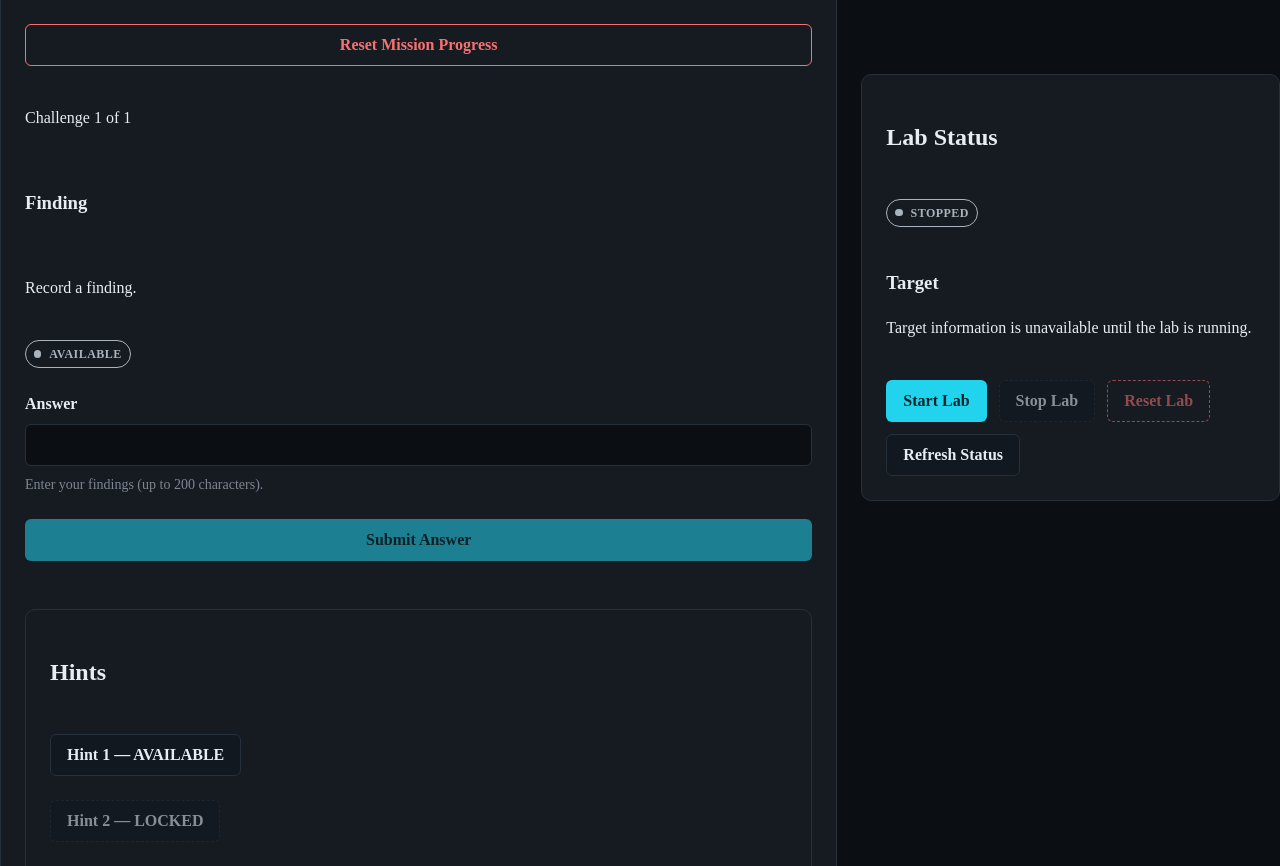
Scenario: handles an HTTP answer failure without leaking the body or completing the mission
(page scrolled)
Type "fixture observation" into the field at (419, 445), box [25,424,812,466]
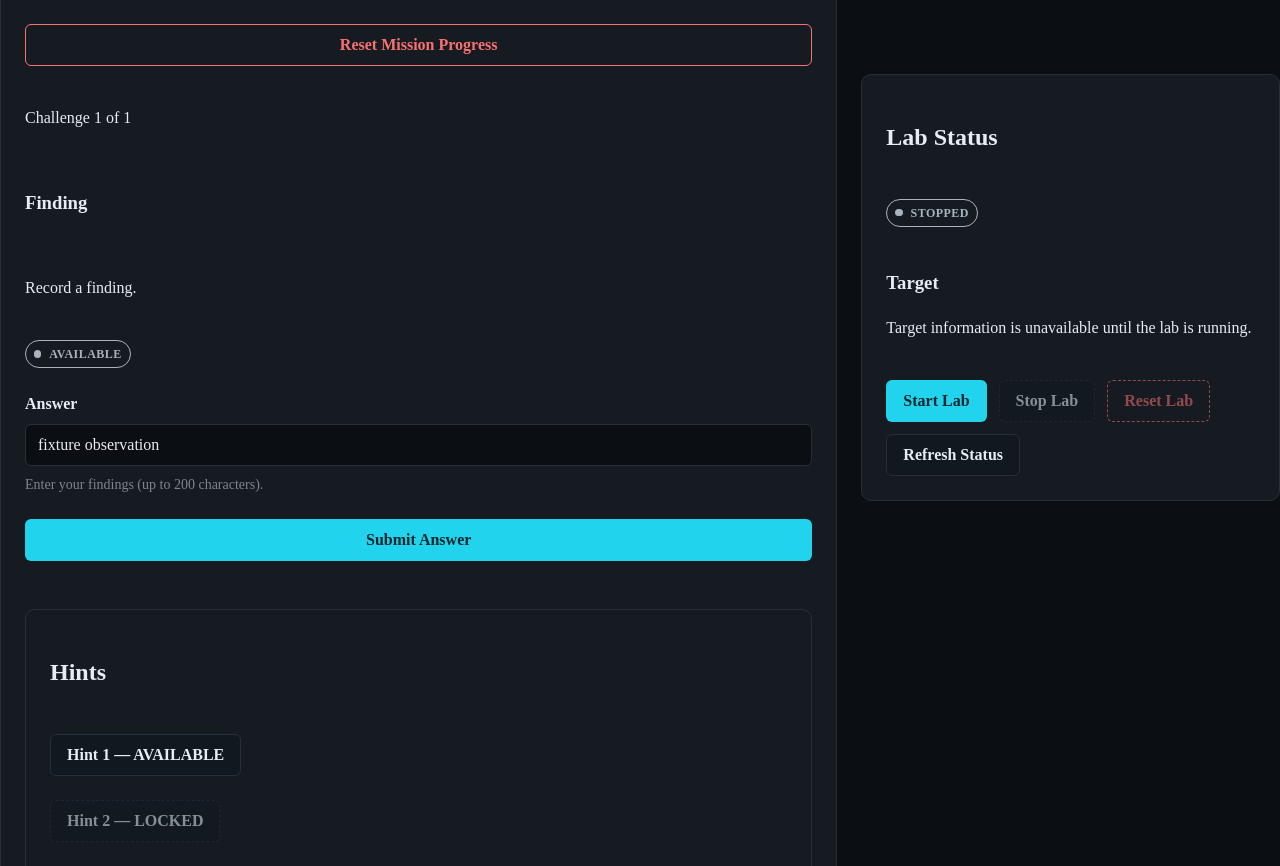
Click the button "Submit Answer" at (419, 540), box [25,519,812,561]
(page scrolled)
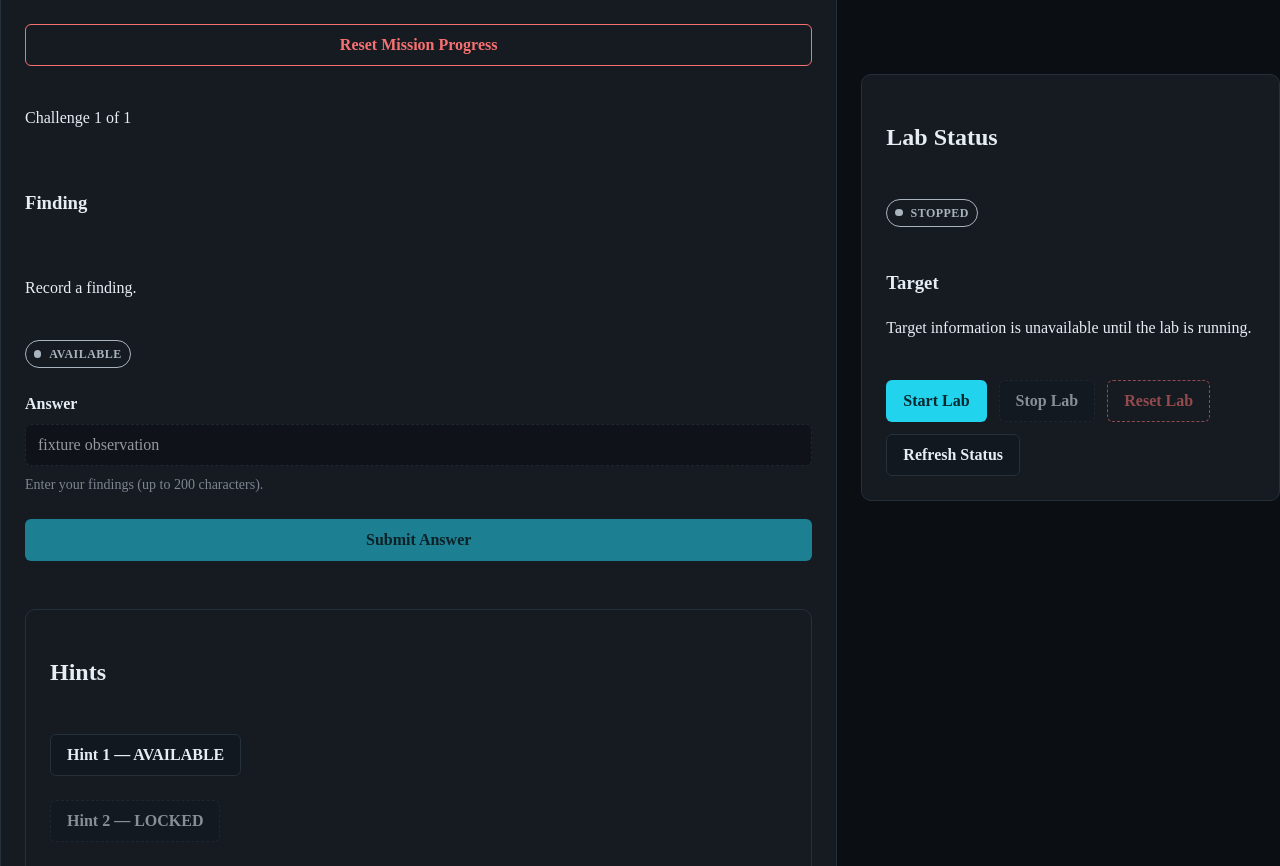
expect the button "Submit Answer" is disabled: met, box [25,519,812,561]
